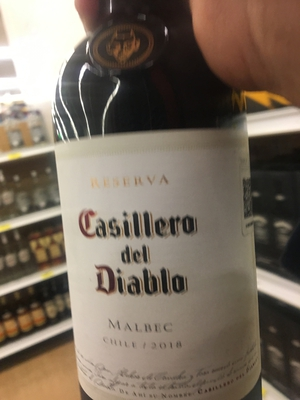casillero del diablo malbec: (35, 21, 286, 400)
